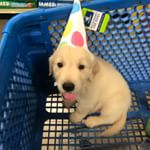puppy: (45, 44, 137, 138)
